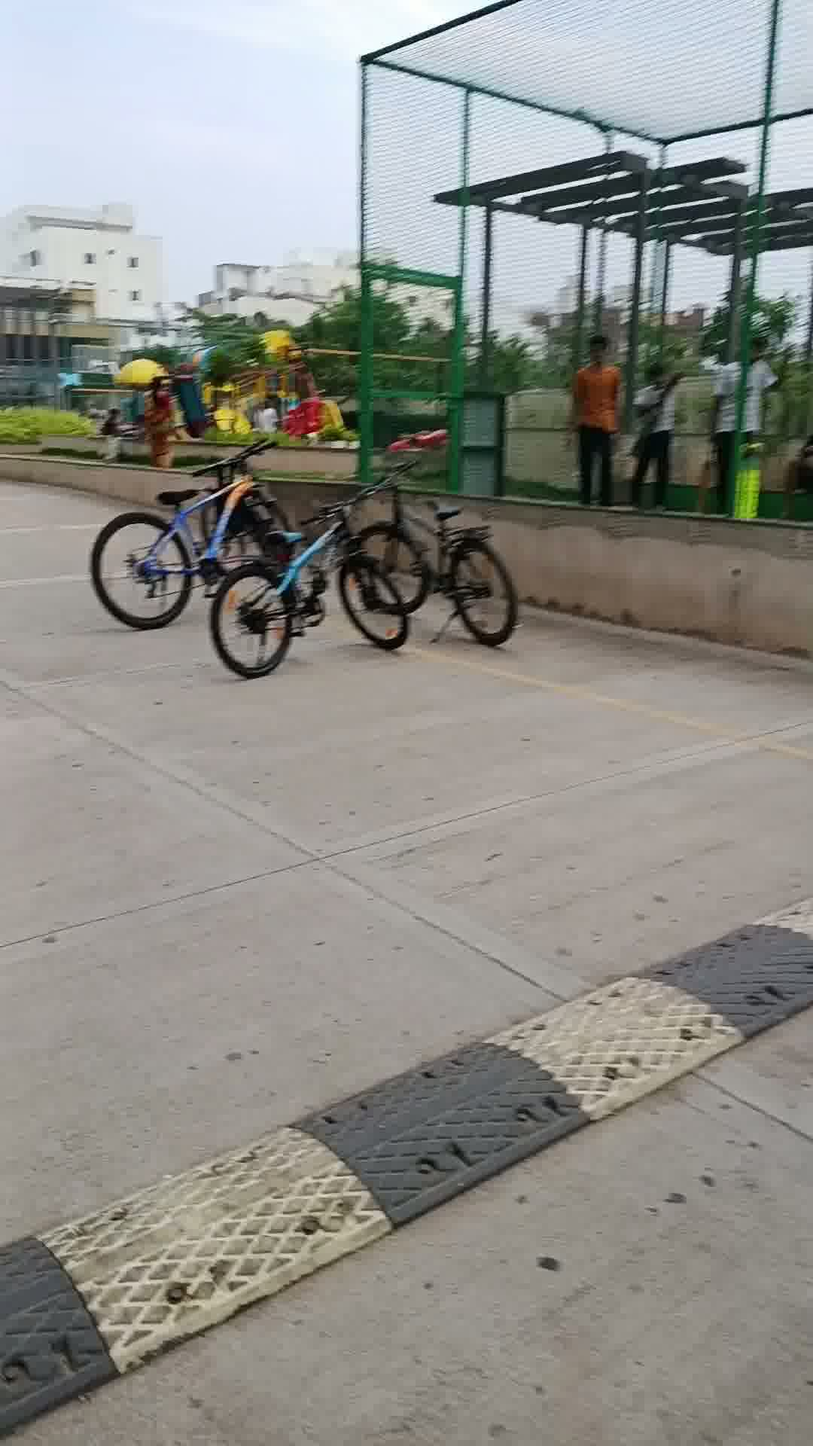bicycle: (68, 453, 307, 655), (211, 512, 410, 683), (367, 450, 524, 666)
person: (720, 316, 786, 530), (624, 347, 700, 529), (571, 316, 628, 521), (128, 359, 188, 495)
